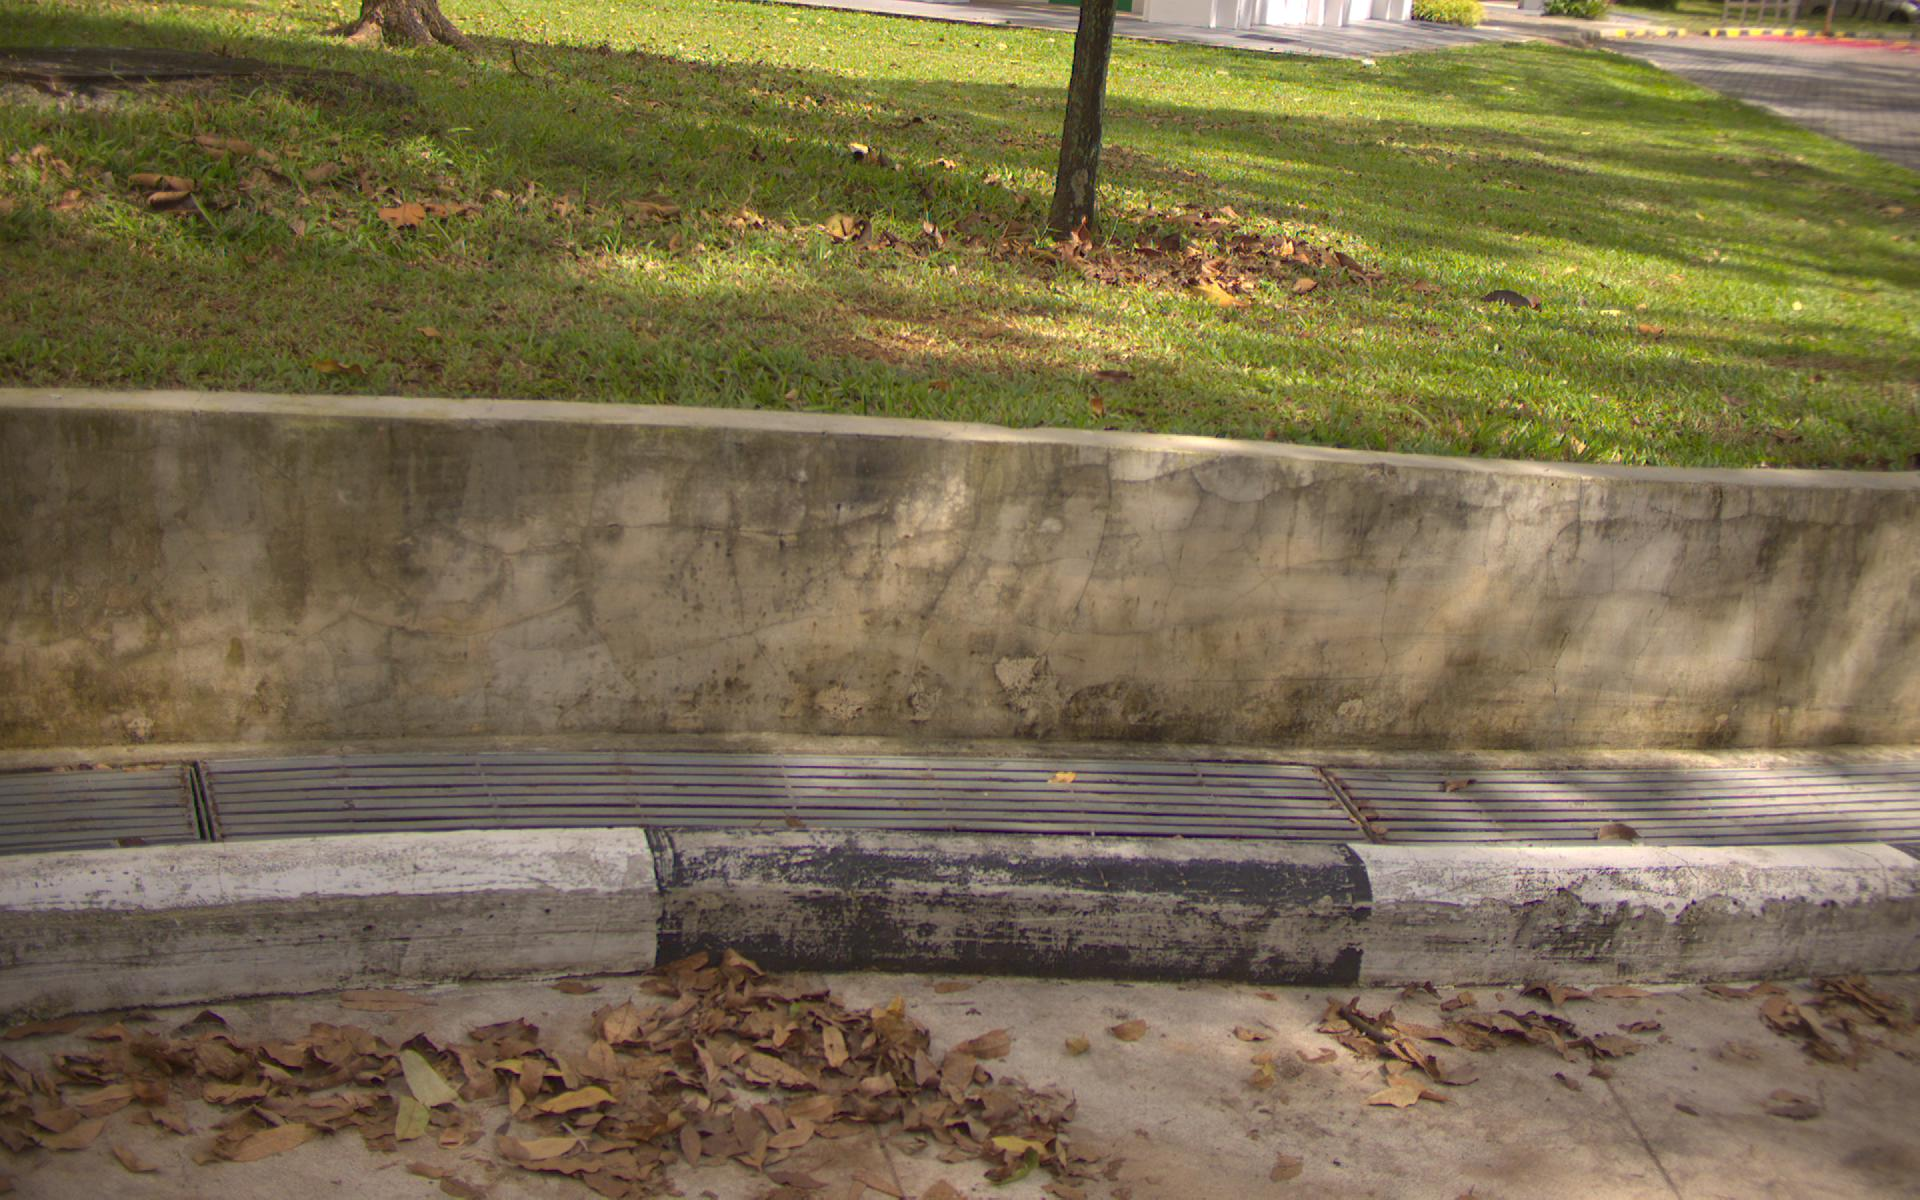curb_dic_low: (6, 753, 1914, 853)
road_curb_medium: (80, 990, 1913, 1200)
road_turf_low: (17, 162, 1895, 355)
